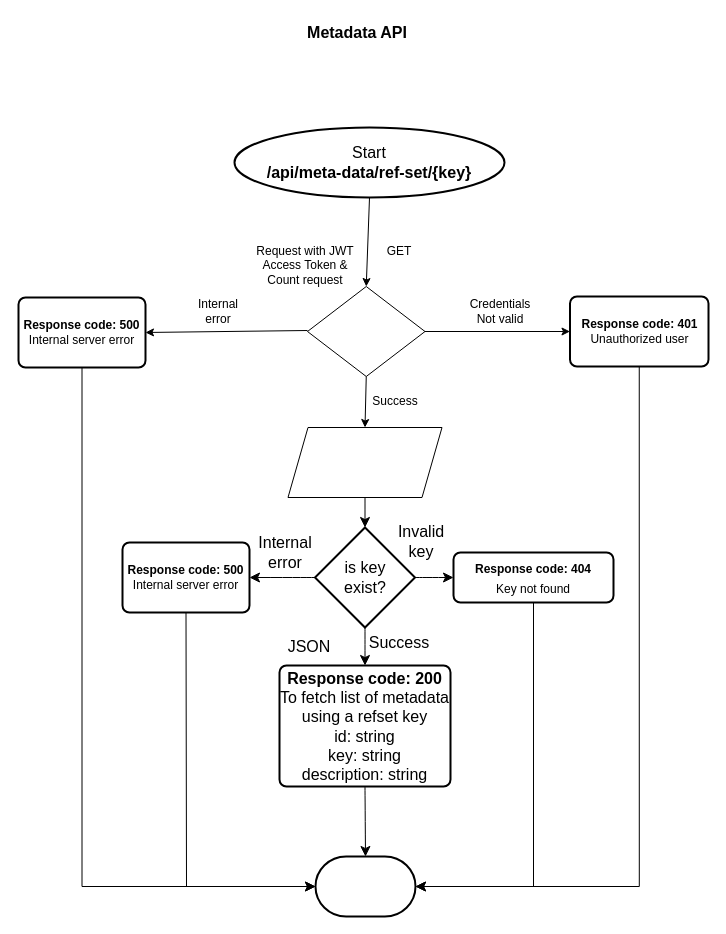
This 726x934 diagram has some shape labels left out. The shapes that lost their labels are listed below. From the top down, each one's box as (x1, y1, x2, y2) in pixels, then its label:
(306, 286, 425, 376): is authorized?
(287, 426, 442, 498): user input Get the key as the input to set refset
(314, 855, 416, 917): Stop
